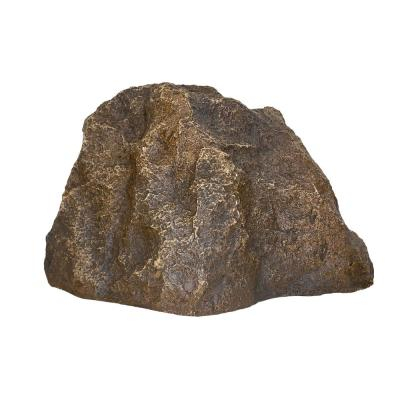stone: (35, 64, 381, 327)
